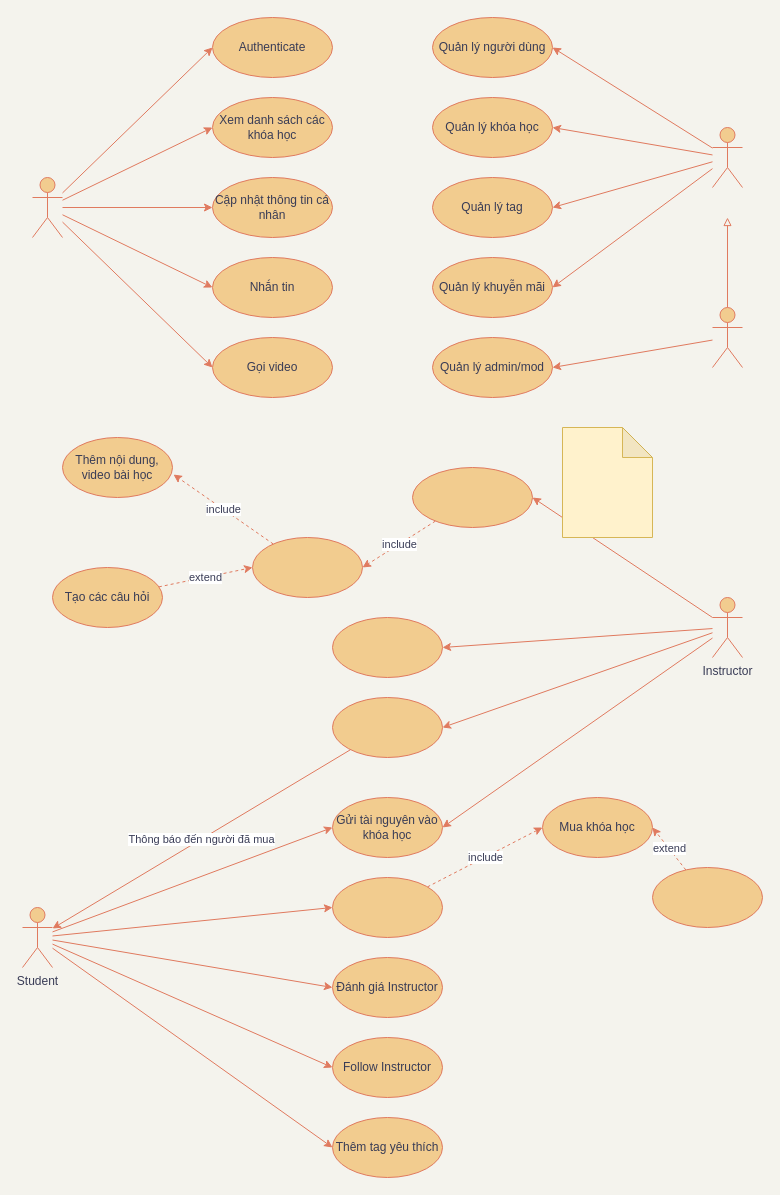
This 780x1195 diagram has some shape labels left out. Here are the shapes that lost their labels. From the top down, the centre of each, then its label:
At [727,157]: "Moderator".
At [47,207]: "User".
At [727,337]: "Administrator".
At [472,497]: "Đăng khóa học".
At [607,482]: "Khóa học: - Full stream - Recorded - Mix".
At [307,567]: "Tạo các bài học".
At [387,647]: "Tạo phòng stream/call cho khóa học".
At [387,727]: "Đặt lịch stream/call".
At [387,907]: "Học khóa học".
At [707,897]: "Đánh giá khóa học".
